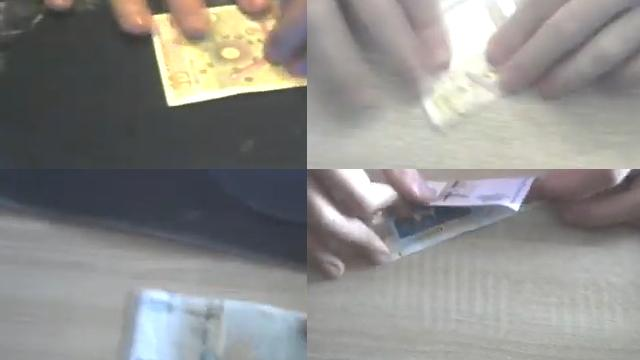10leva: (152, 4, 307, 105), (422, 0, 515, 128)
20leva: (116, 288, 307, 360), (429, 177, 536, 215)
